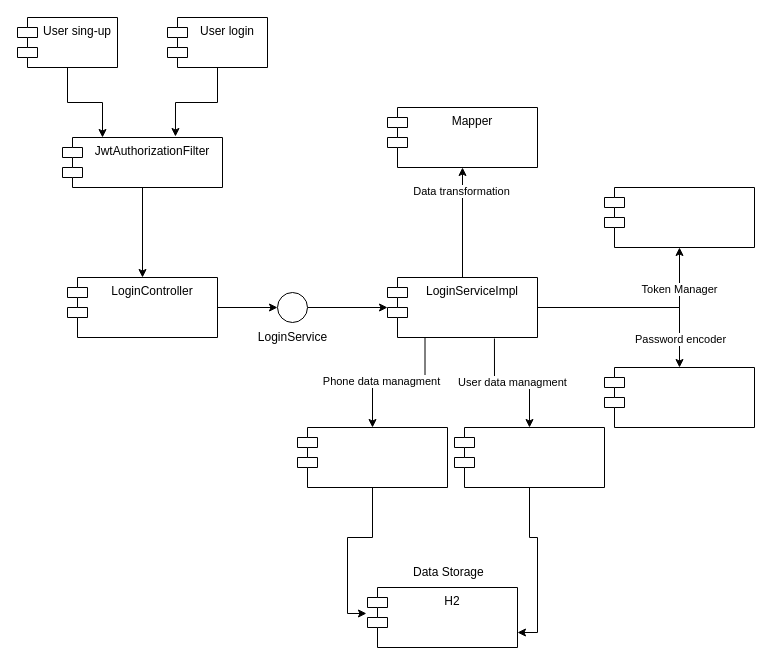
Some shapes in this 772 by 665 pixel diagram are drawn without their labels. Each missing label, with the box of its shape:
JWTUtil: (604, 186, 754, 248)
PasswordUtil: (604, 366, 754, 428)
PhoneRepository: (296, 426, 448, 488)
UserRepository: (454, 426, 604, 488)
